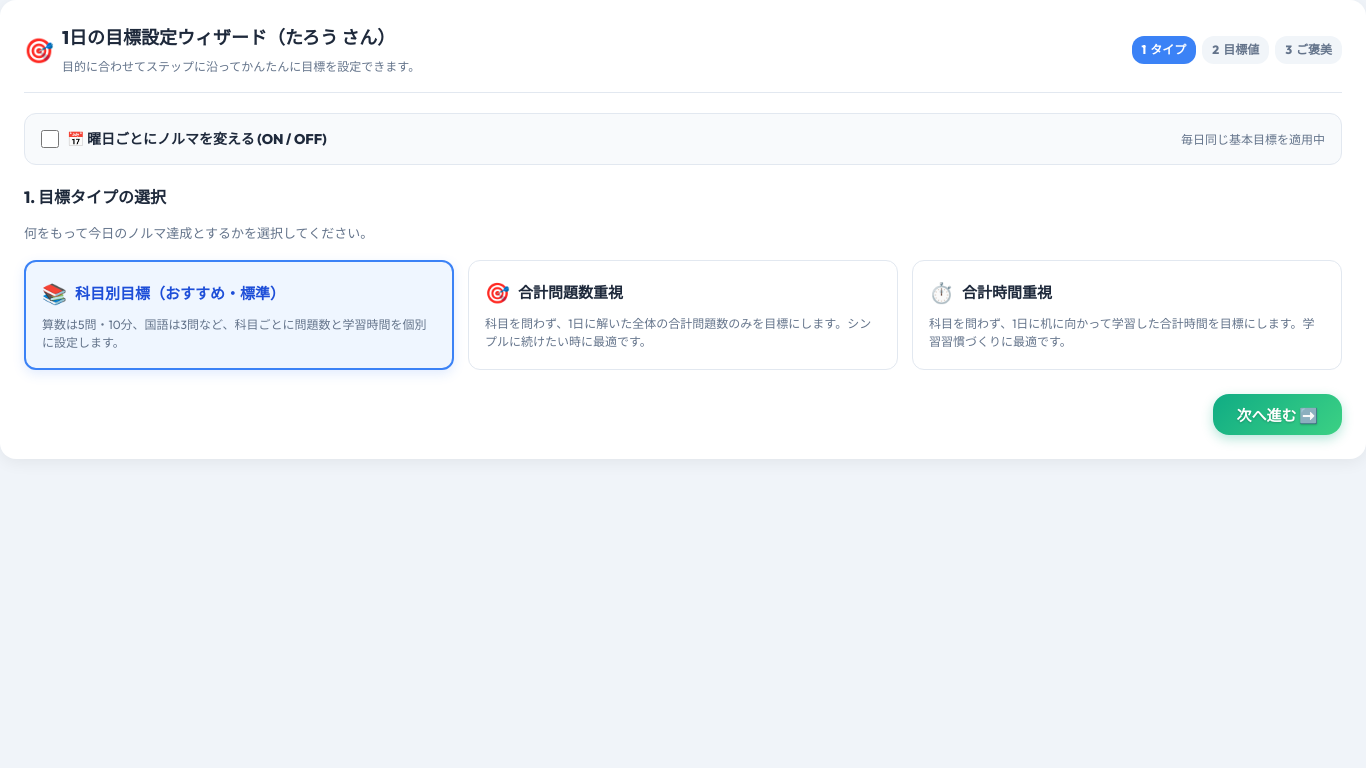
GoalSettingWizard Component Tests › renders Step 1 with 3 goal types and advances to Step 2 with subject inputs by default
Expected: the heading "1. 目標タイプの選択" is shown, [24,187,166,207]
Expected: the text "科目別目標（おすすめ・標準）" is shown, [75,282,285,306]
Step 1. Click the button "次へ進む ➡️" → (1277, 414), box [1212,394,1342,435]
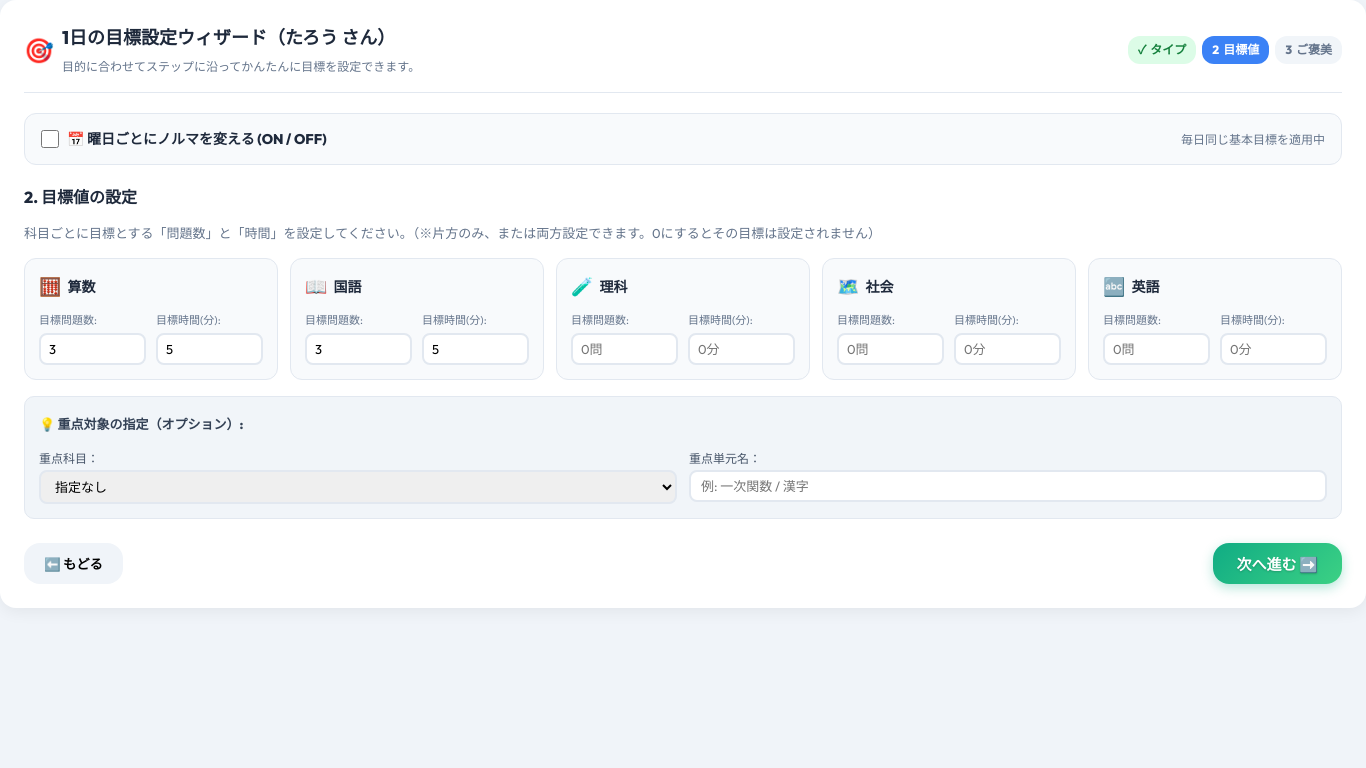
Expected: the text "算数" is shown, [68,276,96,298]
Result: the heading "2. 目標値の設定" is shown at [24,187,137,207]
